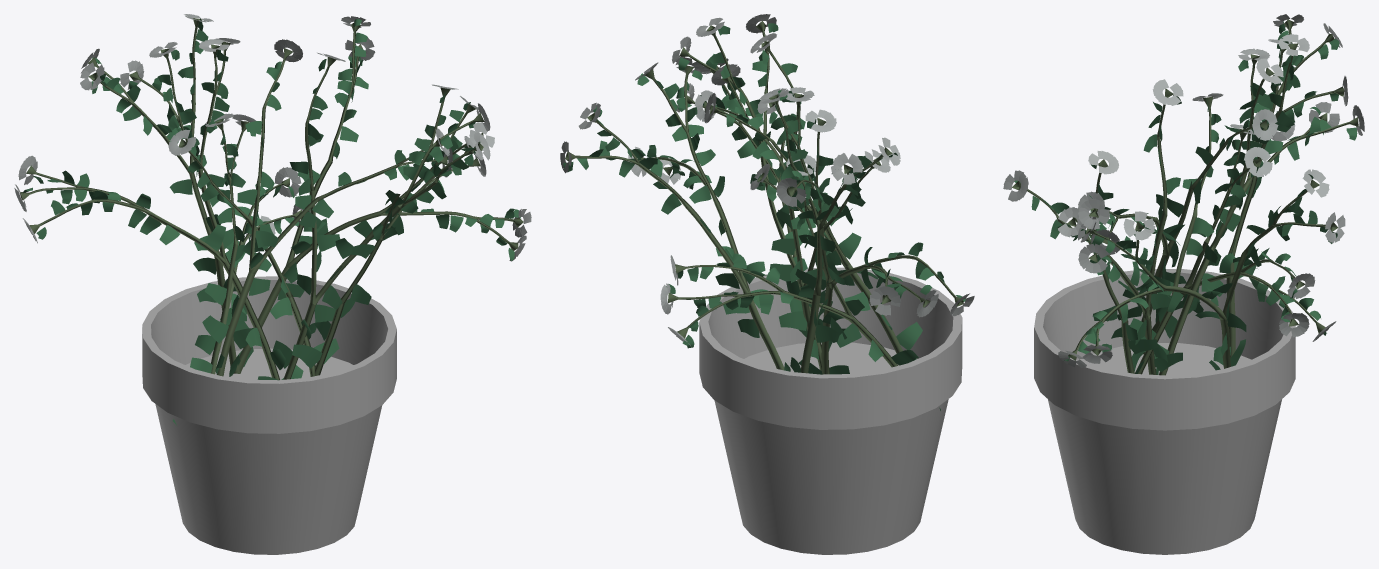
File: flowers 2.fbx
3 views of the same model, side by side, from view 1: azimuth 30°, elevation 25°; view 2: azimuth 150°, elevation 25°; view 3: azimuth 270°, elevation 25° (orthographic). The views are drawn at different scales.
Visible parts, largest first — view 1: pCylinder1, daisyLarge1Leaf, daisyLarge3Leaf, daisyLarge2Leaf, daisyLarge1Main, daisyLarge3Main, daisyLarge2Main, daisyLarge3Flower, daisyLarge1Flower, daisyLarge2Flower; view 2: pCylinder1, daisyLarge3Leaf, daisyLarge3Main, daisyLarge1Leaf, daisyLarge2Leaf, daisyLarge1Main, daisyLarge1Flower, daisyLarge3Flower, daisyLarge2Main, daisyLarge2Flower; view 3: pCylinder1, daisyLarge3Leaf, daisyLarge1Leaf, daisyLarge3Main, daisyLarge3Flower, daisyLarge1Main, daisyLarge2Leaf, daisyLarge1Flower, daisyLarge2Main, daisyLarge2Flower.
Boxes of the visible parts, bbox=[...] form: pCylinder1: bbox=[142, 276, 396, 554]; daisyLarge1Leaf: bbox=[23, 49, 475, 380]; daisyLarge3Leaf: bbox=[91, 18, 520, 425]; daisyLarge2Leaf: bbox=[187, 61, 473, 373]; daisyLarge1Main: bbox=[19, 42, 484, 380]; daisyLarge3Main: bbox=[88, 18, 523, 374]; daisyLarge2Main: bbox=[178, 48, 480, 376]; daisyLarge3Flower: bbox=[80, 14, 531, 261]; daisyLarge1Flower: bbox=[14, 38, 490, 243]; daisyLarge2Flower: bbox=[168, 39, 486, 177]; pCylinder1: bbox=[699, 267, 962, 554]; daisyLarge3Leaf: bbox=[563, 70, 940, 410]; daisyLarge3Main: bbox=[565, 65, 898, 373]; daisyLarge1Leaf: bbox=[678, 23, 965, 374]; daisyLarge2Leaf: bbox=[678, 85, 922, 349]; daisyLarge1Main: bbox=[679, 21, 963, 374]; daisyLarge1Flower: bbox=[672, 14, 974, 317]; daisyLarge3Flower: bbox=[560, 57, 900, 345]; daisyLarge2Main: bbox=[687, 66, 902, 353]; daisyLarge2Flower: bbox=[676, 58, 890, 172]; pCylinder1: bbox=[1034, 269, 1295, 554]; daisyLarge3Leaf: bbox=[1064, 21, 1339, 370]; daisyLarge1Leaf: bbox=[1014, 49, 1357, 374]; daisyLarge3Main: bbox=[1068, 19, 1338, 368]; daisyLarge3Flower: bbox=[1058, 14, 1345, 367]; daisyLarge1Main: bbox=[1012, 49, 1358, 375]; daisyLarge2Leaf: bbox=[1057, 98, 1262, 373]; daisyLarge1Flower: bbox=[1003, 39, 1364, 229]; daisyLarge2Main: bbox=[1067, 96, 1267, 374]; daisyLarge2Flower: bbox=[1058, 93, 1278, 273].
Size of the model in its own units: 2.31 by 2.44 by 1.69.
